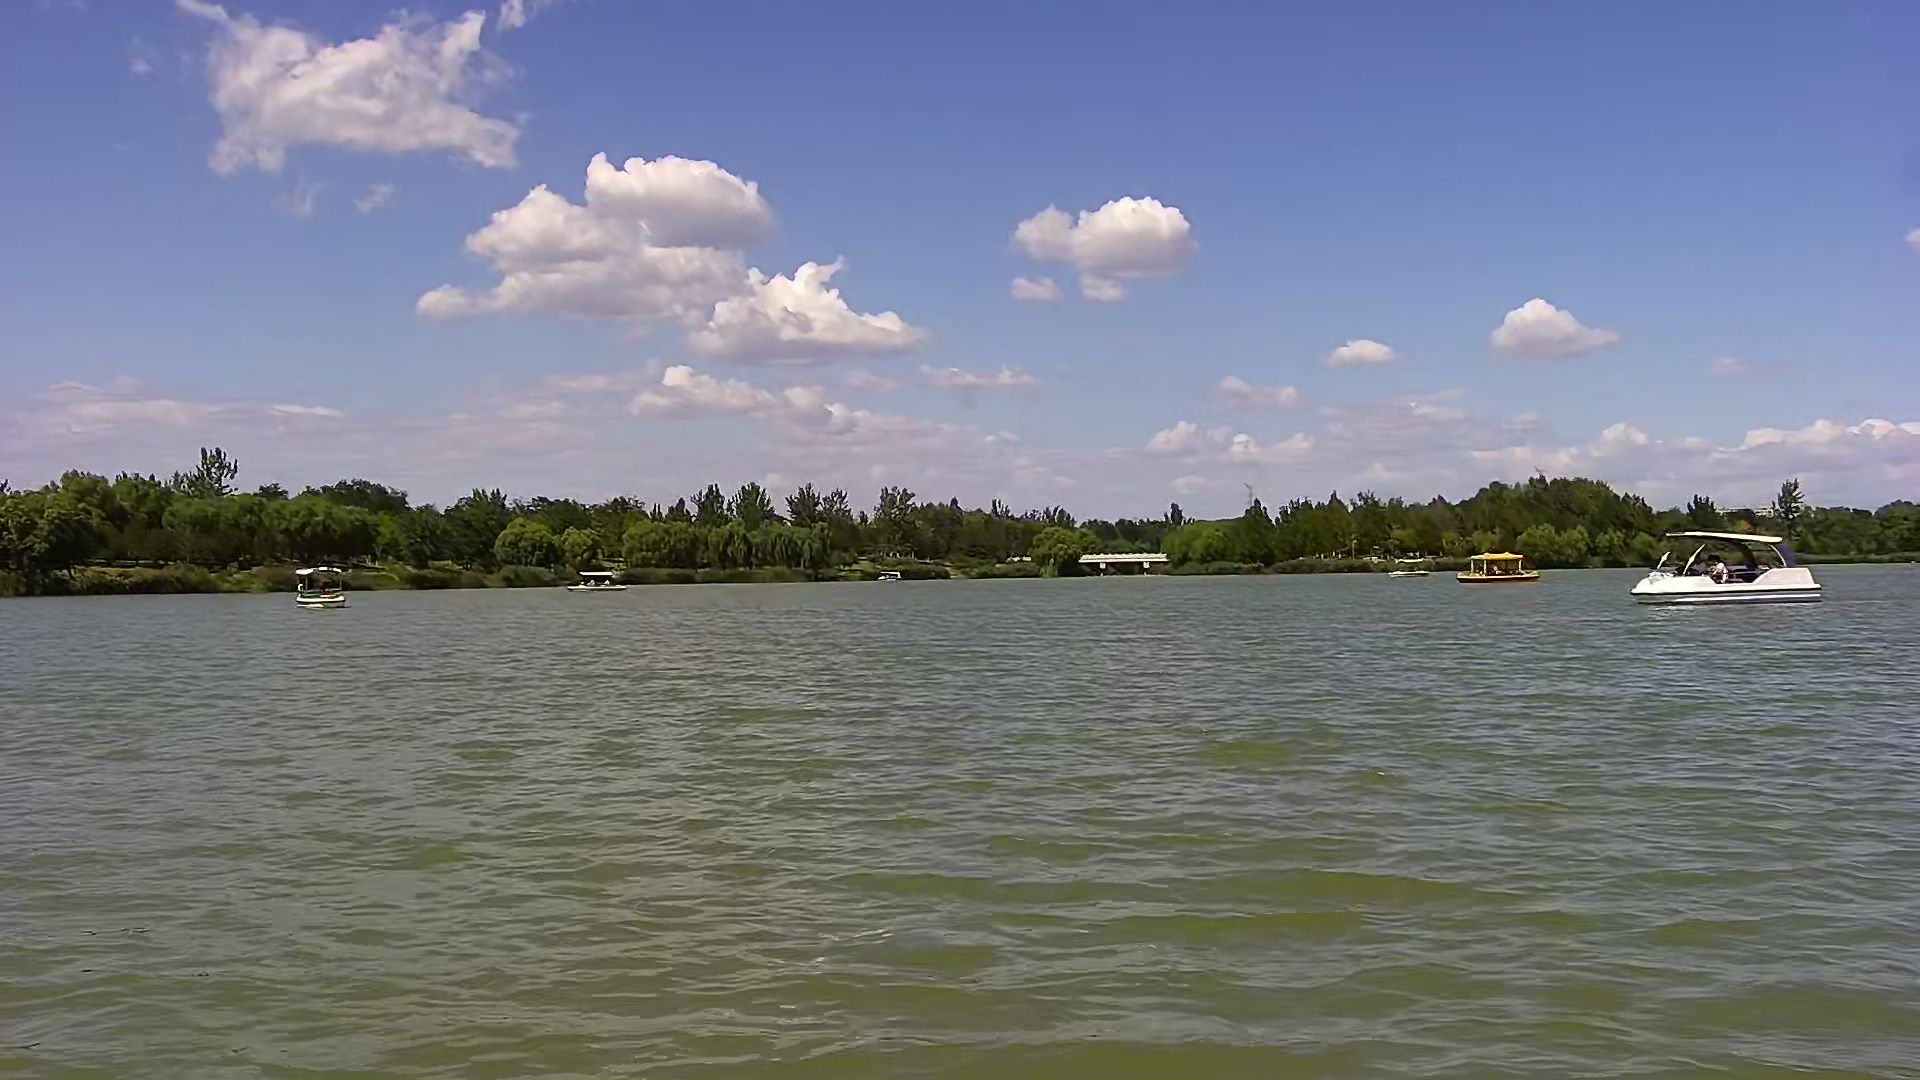boat: (1633, 527, 1818, 597), (1458, 554, 1534, 580), (295, 567, 343, 605), (571, 571, 622, 593), (1386, 556, 1429, 578)
bridge: (1080, 553, 1162, 574)
